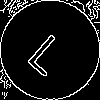L: (25, 25, 76, 78)
